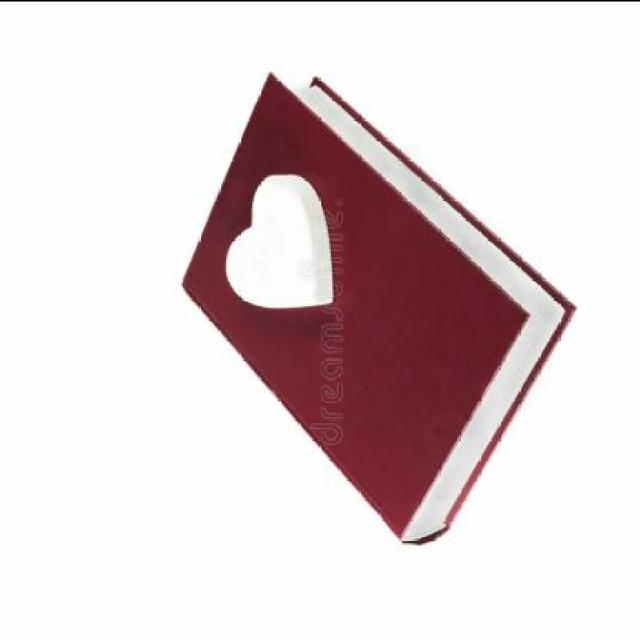book: (199, 48, 606, 528)
